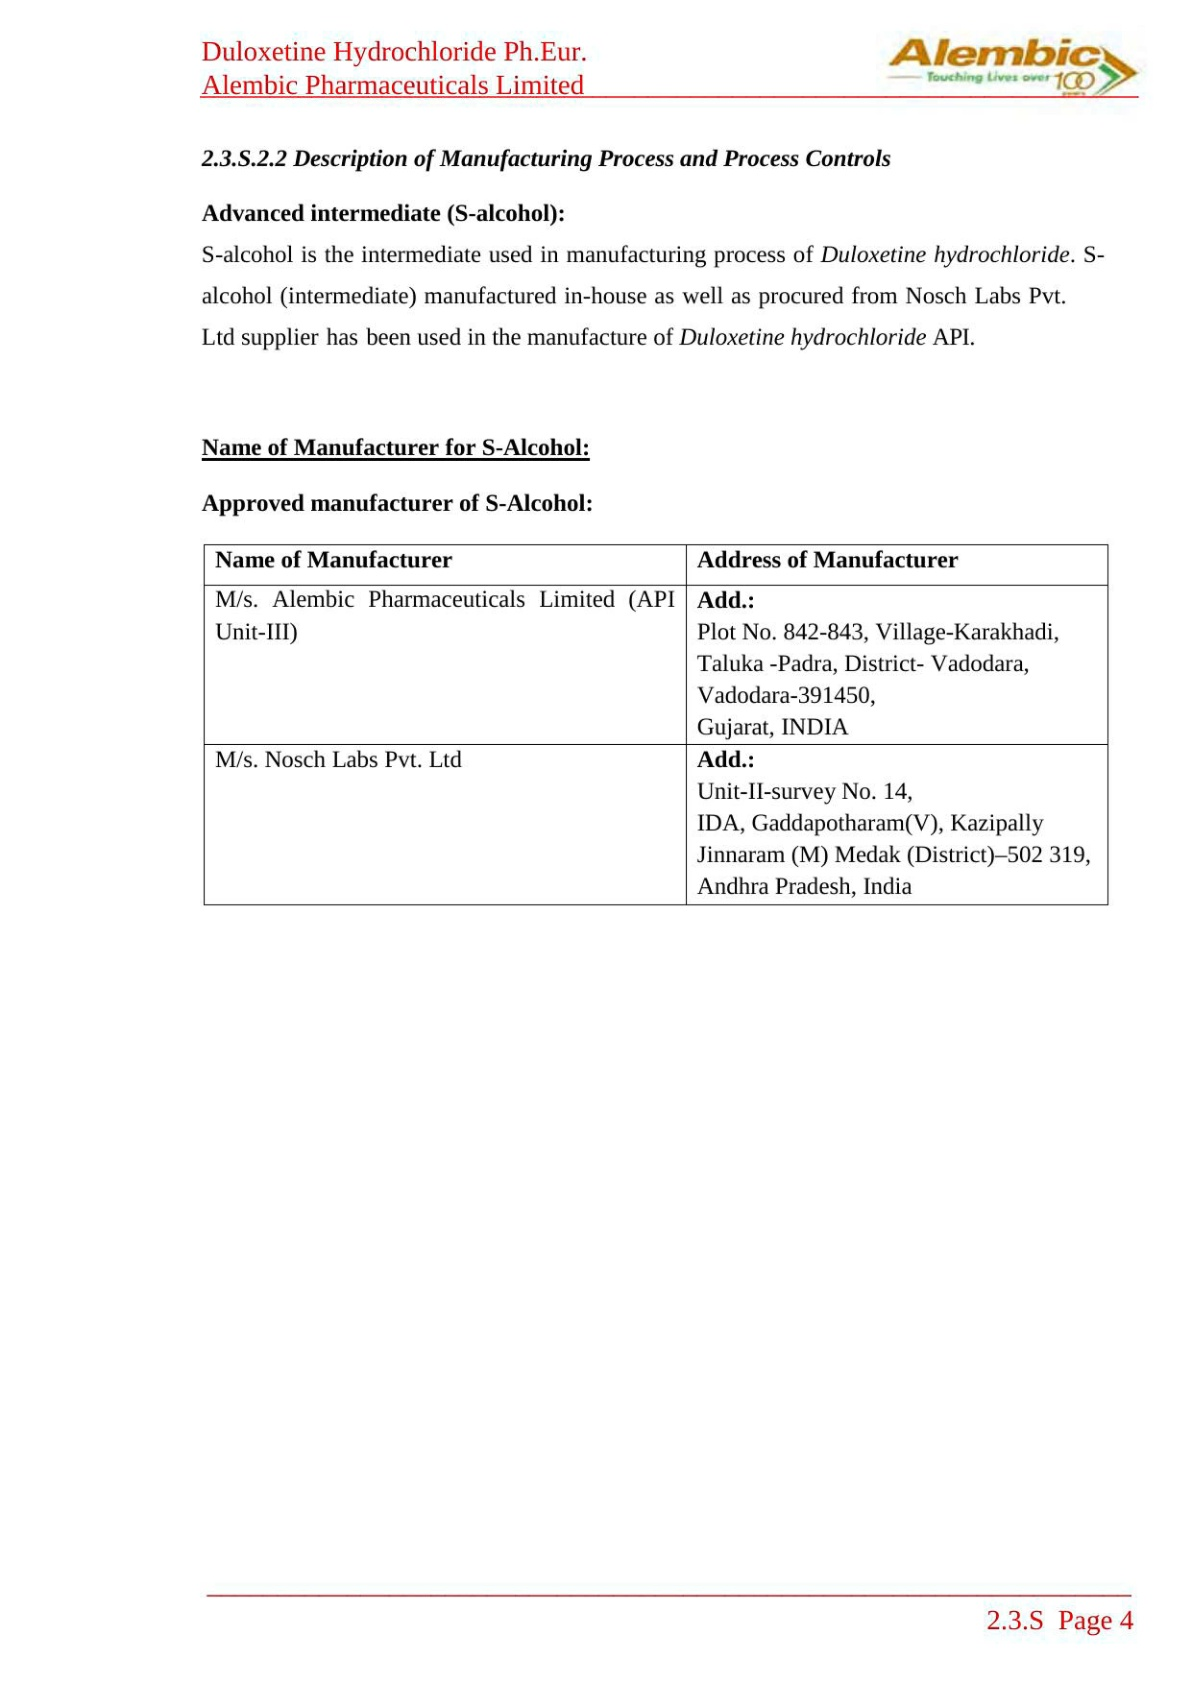full_lined: (201, 542, 1111, 908)
